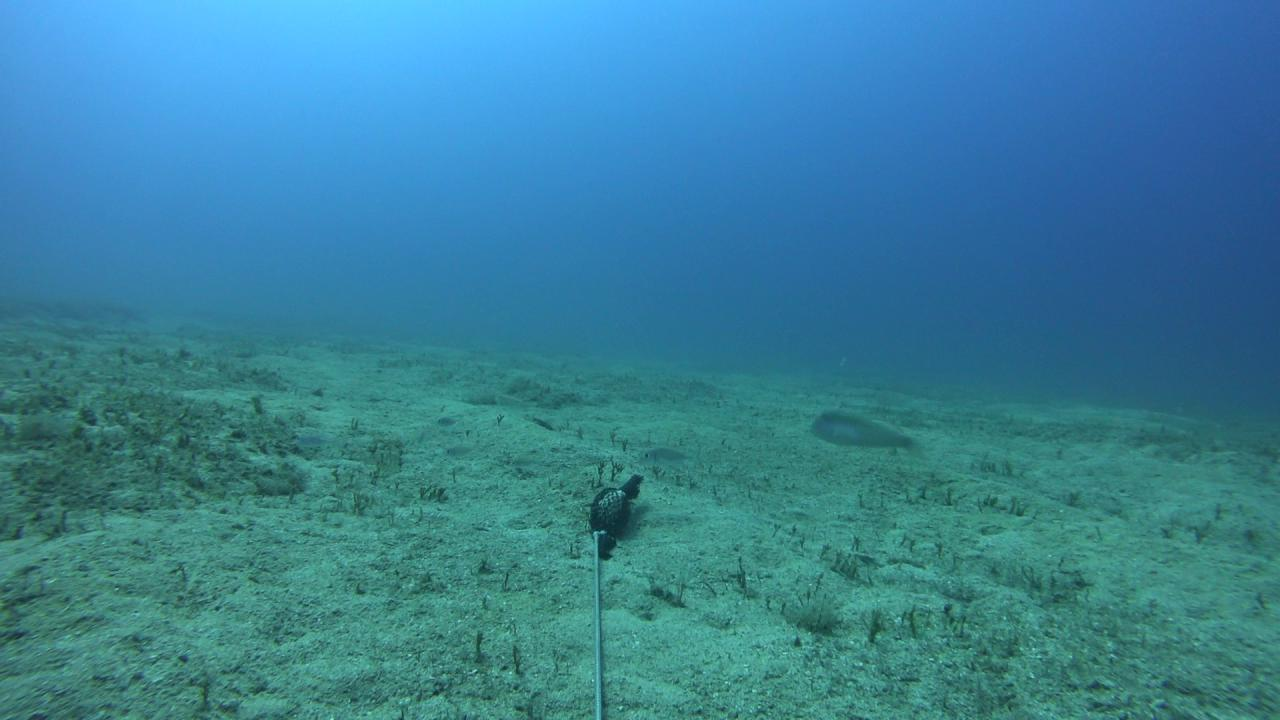pagellus: (635, 443, 704, 471), (294, 433, 336, 447), (445, 442, 478, 459), (438, 415, 462, 429)
raor: (805, 408, 928, 459)
